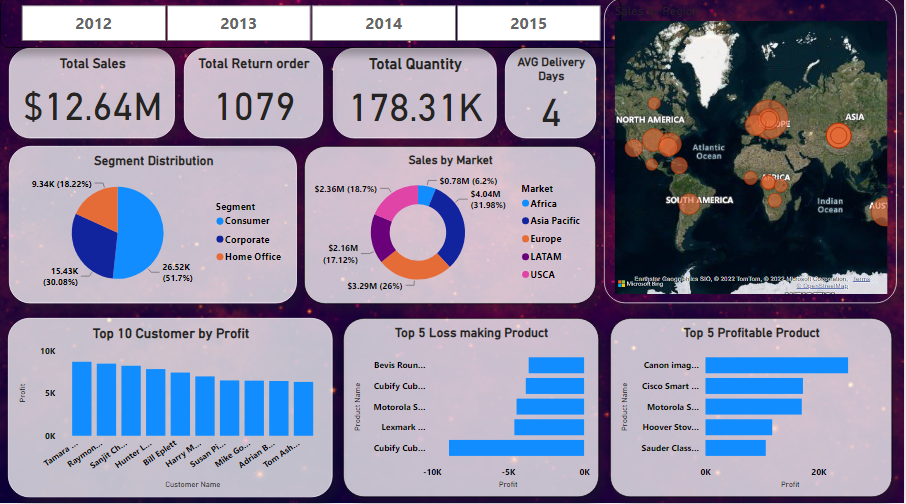

What the dashboard file says about the page in this screenshot:
{"tool":"powerbi","page":{"name":"Page 1","canvas":[1280,720],"ordinal":0},"visuals":[{"type":"card","title":"Total Sales","fields":{"Values":["Orders.Sales"]},"box":[13.4,72.2,235.2,127.7],"z":0},{"type":"card","title":"Total Quantity","fields":{"Values":["Orders.Quantity"]},"box":[472,72.2,231.8,127.7],"z":1000},{"type":"card","title":"AVG Delivery Days","fields":{"Values":["Orders.Delivery Days"]},"box":[715.6,72.2,129.3,127.7],"z":2000},{"type":"slicer","fields":{"Values":["Orders.Year"]},"box":[0,0,880.2,72.2],"z":3000},{"type":"map","fields":{"Size":["Orders.Sales"],"Category":["Orders.Region"]},"box":[856.1,0,415.3,433.7],"z":5000},{"type":"barChart","title":"Top 5 Profitable Product","fields":{"Y":["Orders.Profit"],"Category":["Orders.Product Name"]},"box":[865.1,455.2,399.8,253.6],"z":6000},{"type":"barChart","title":"Top 5 Loss making Product","fields":{"Y":["Orders.Profit"],"Category":["Orders.Product Name"]},"box":[485.5,455.2,362.8,253.6],"z":7000},{"type":"pieChart","title":"Segment Distribution","fields":{"Category":["Orders.Segment"],"Y":["Orders.Segment"]},"box":[12.8,211.2,408.2,222.5],"z":8000},{"type":"donutChart","fields":{"Y":["Orders.Sales"],"Series":["Orders.Market"]},"box":[430.9,211.2,413.9,223.9],"z":9000},{"type":"columnChart","title":"Top 10 Customer by Profit","fields":{"Category":["Orders.Customer Name"],"Y":["Orders.Profit"]},"box":[11.8,455.2,460.3,253.6],"z":10000},{"type":"card","title":"Total Return order","fields":{"Values":["Returns.Returned"]},"box":[260.4,72.2,196.5,127.7],"z":10001}]}

Visuals, with their boxes in screenshot pixels (x1, y1, x2, y2), scaled from the page's 1280x720 canvas onto the 906x504 screenshot:
"Total Sales" card: bbox(9, 51, 176, 140)
"Total Quantity" card: bbox(334, 51, 498, 140)
"AVG Delivery Days" card: bbox(507, 51, 598, 140)
slicer - Orders.Year: bbox(0, 0, 623, 51)
map - Orders.Sales x Orders.Region: bbox(606, 0, 900, 304)
"Top 5 Profitable Product" barChart: bbox(612, 319, 895, 496)
"Top 5 Loss making Product" barChart: bbox(344, 319, 600, 496)
"Segment Distribution" pieChart: bbox(9, 148, 298, 304)
donutChart - Orders.Sales x Orders.Market: bbox(305, 148, 598, 305)
"Top 10 Customer by Profit" columnChart: bbox(8, 319, 334, 496)
"Total Return order" card: bbox(184, 51, 323, 140)
